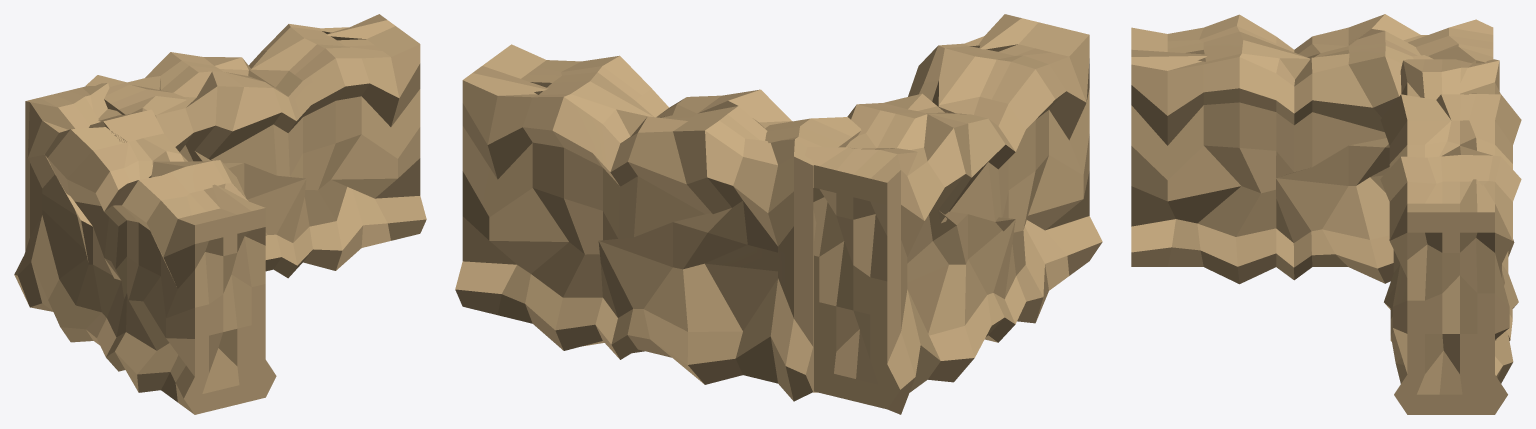
The model's file is Parede_tipo_3.fbx.
The picture shows the model from 3 angles, left to right: view 1: azimuth 30°, elevation 25°; view 2: azimuth 150°, elevation 25°; view 3: azimuth 270°, elevation 25°; orthographic projection. The views are drawn at different scales.
Parts seen in each view (by area): view 1: Parede tipo 3; view 2: Parede tipo 3; view 3: Parede tipo 3.
Boxes of the visible parts, box(x1,y1,x2,y2) form: Parede tipo 3: box(14, 14, 426, 414); Parede tipo 3: box(455, 14, 1102, 414); Parede tipo 3: box(1131, 14, 1521, 414).
Bounding box in the file's own units: 416 × 225 × 349.
